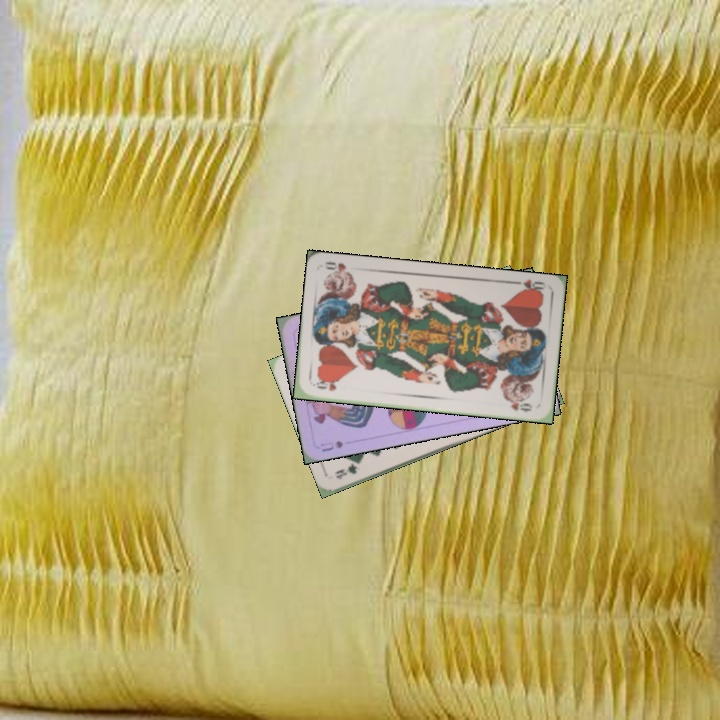G9: (331, 460, 360, 482)
HO: (509, 275, 549, 296), (309, 376, 341, 394)
SU: (317, 436, 346, 454)
